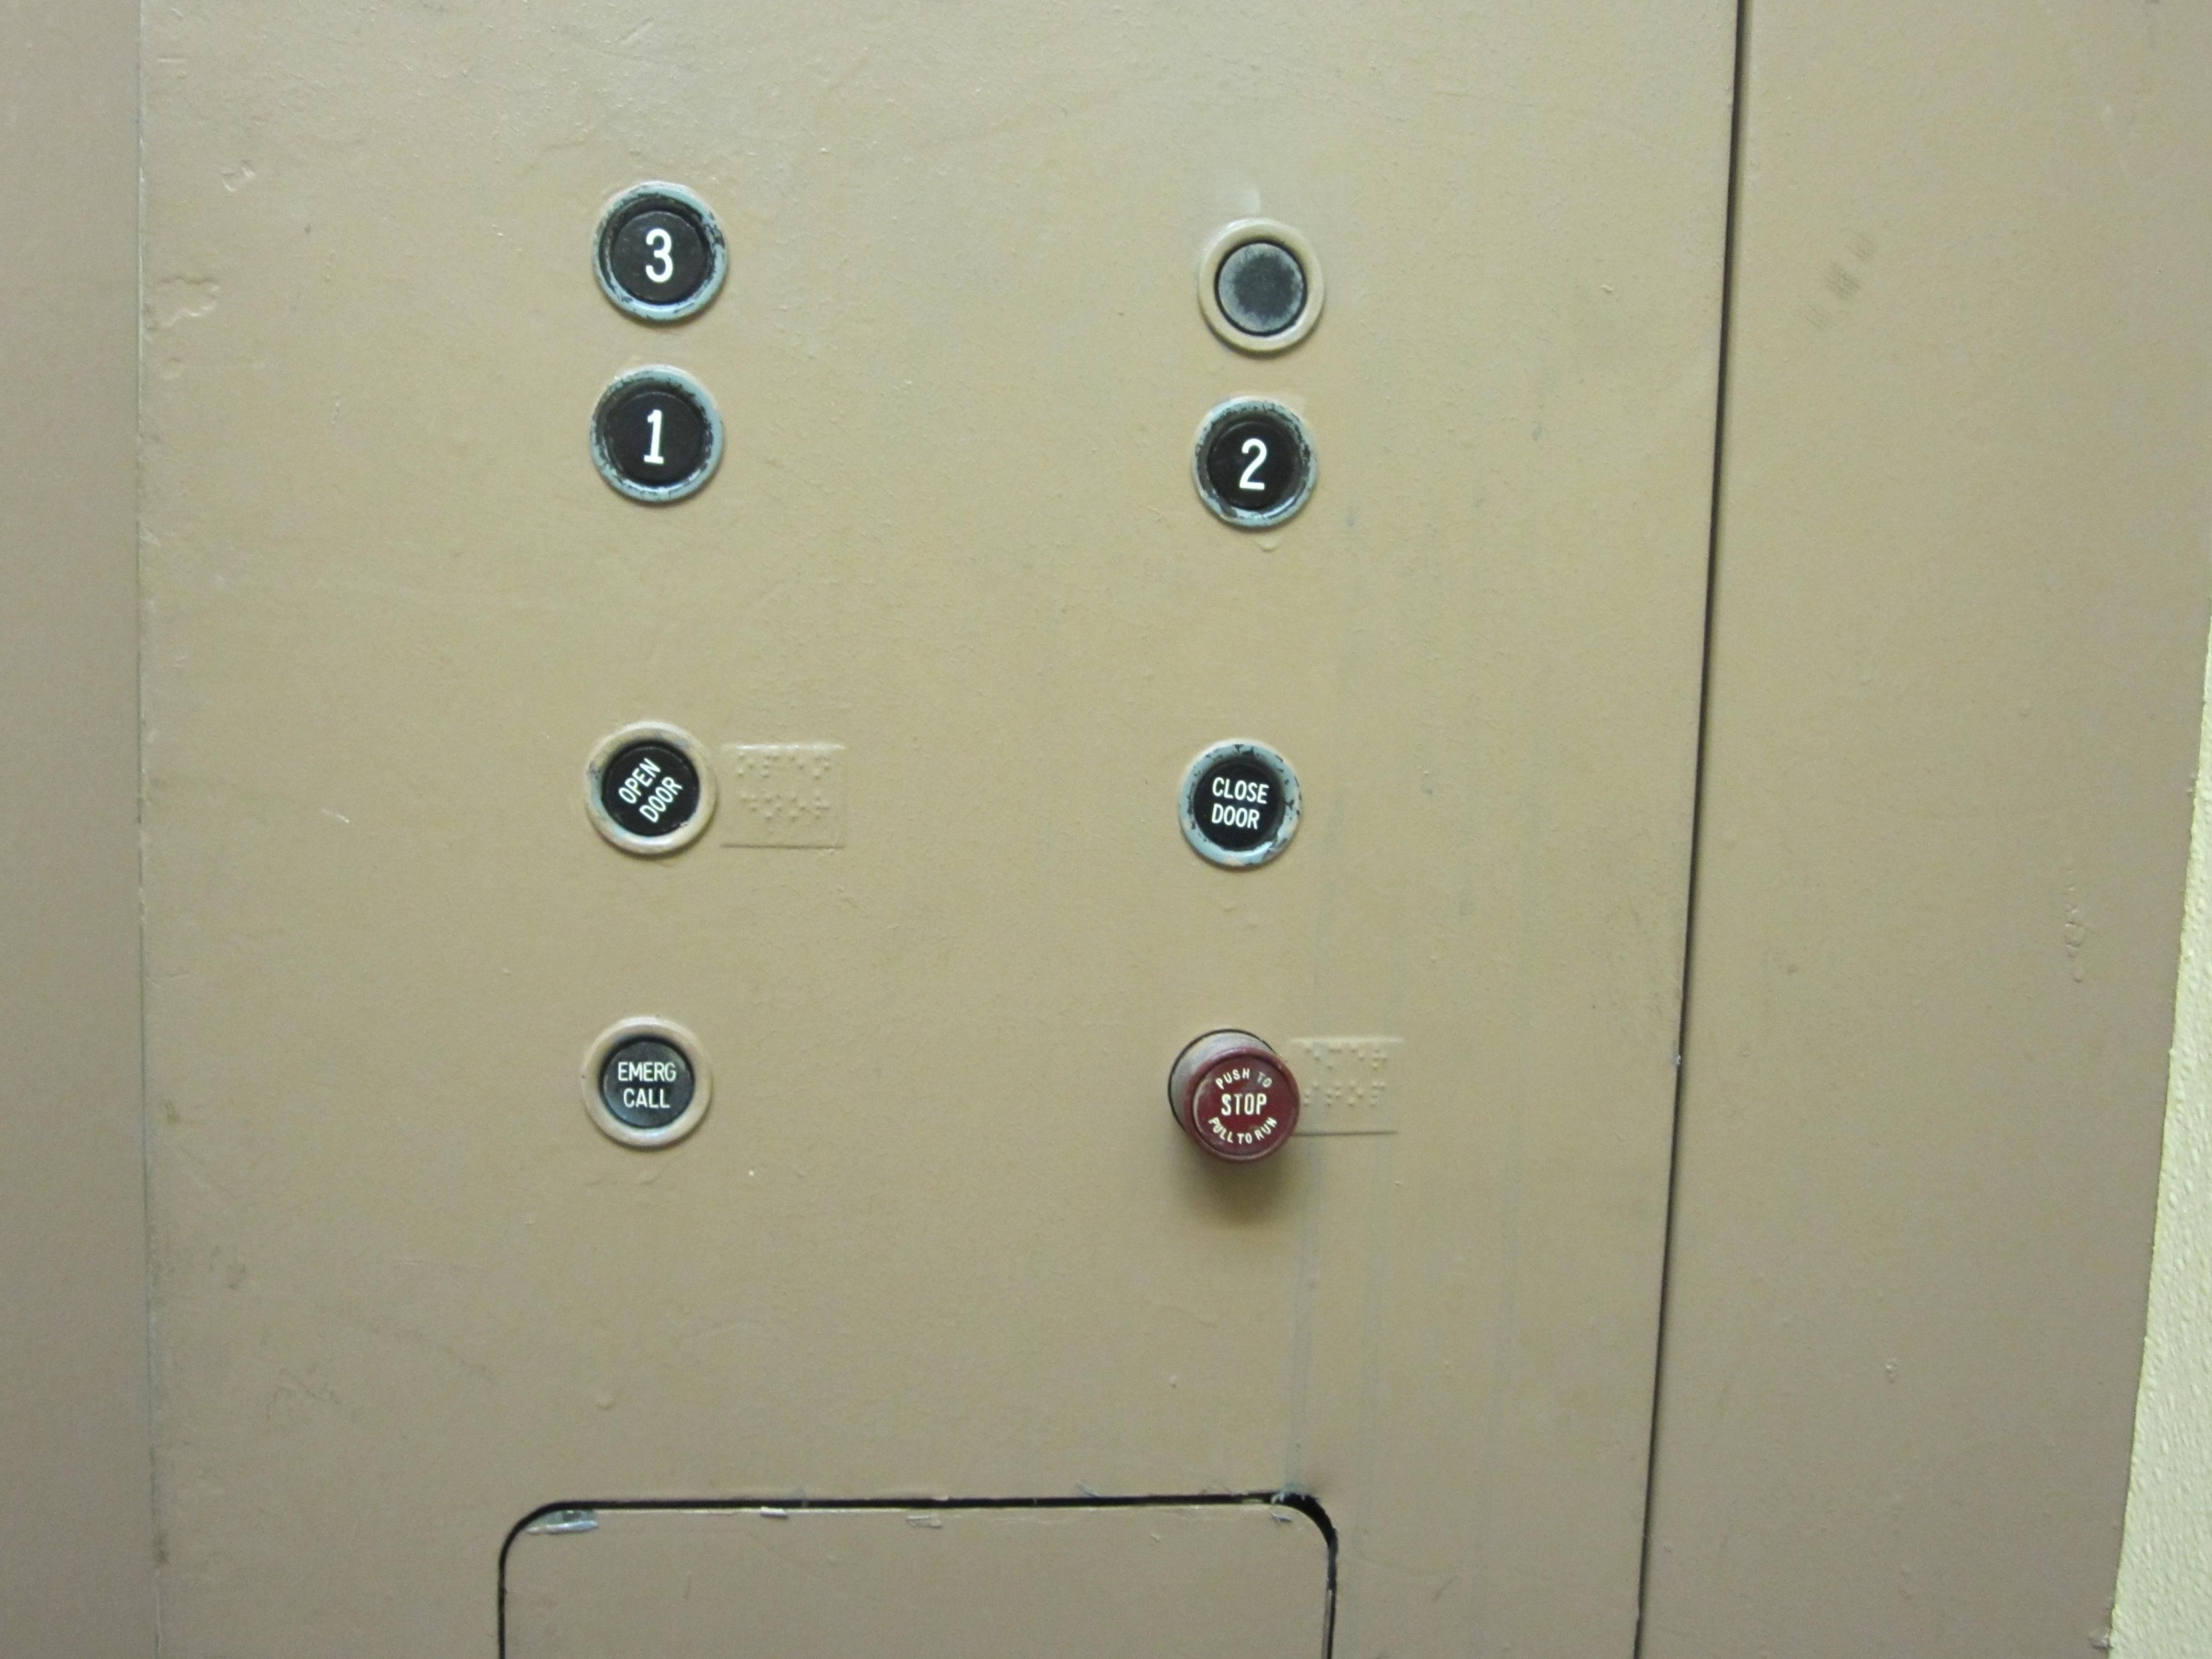1: (590, 369, 730, 509)
2: (1191, 396, 1320, 532)
3: (592, 183, 730, 324)
empty: (1197, 214, 1329, 357)
text_CALL: (580, 1014, 714, 1147)
text_CLOSE DOOR: (1176, 739, 1303, 868)
text_OPEN DOOR: (583, 718, 719, 861)
text_stop: (1169, 1033, 1303, 1162)
